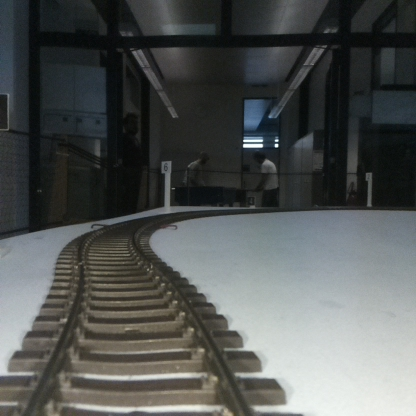white-info-6: (161, 160, 171, 212)
